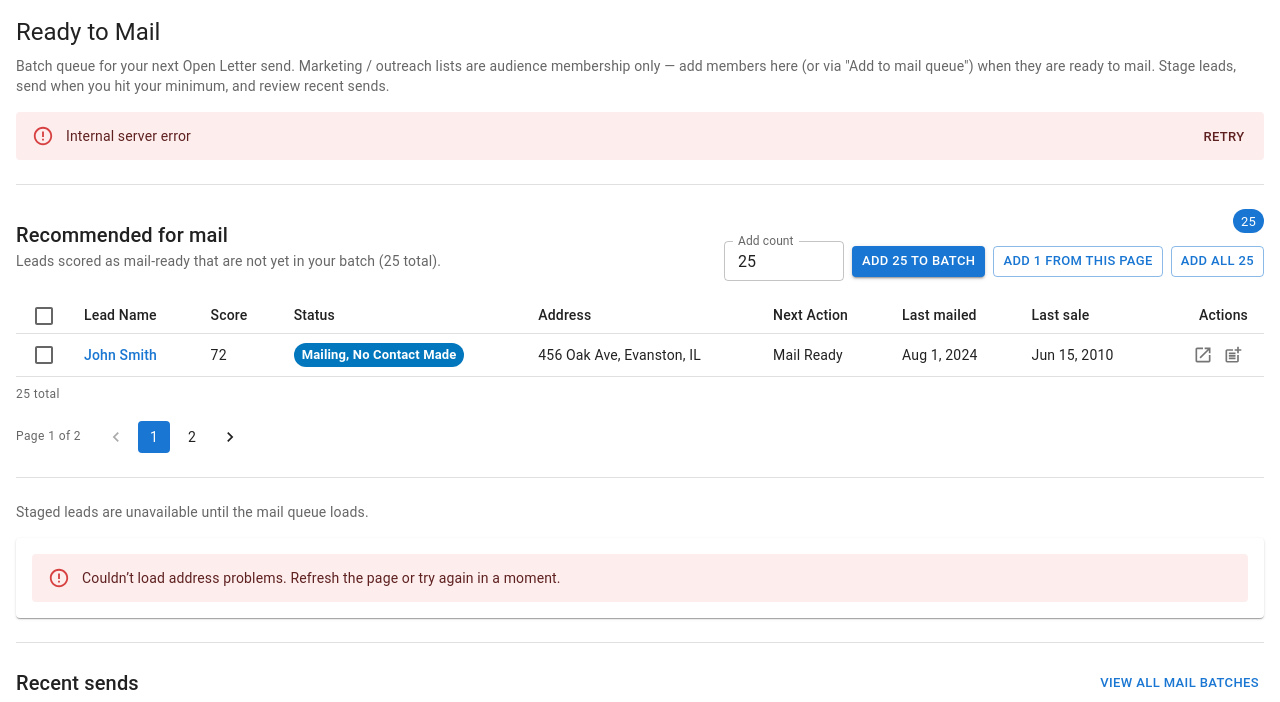
Scenario: ReadyToMailQueue › retry button refetches the mail queue
This screenshot has width=1280, height=702.
expect the message "Internal server error Retry" is shown: met, box left=16, top=112, right=1264, bottom=160
Step 1. Click the button "Retry" → (1224, 138), box left=1192, top=122, right=1256, bottom=153
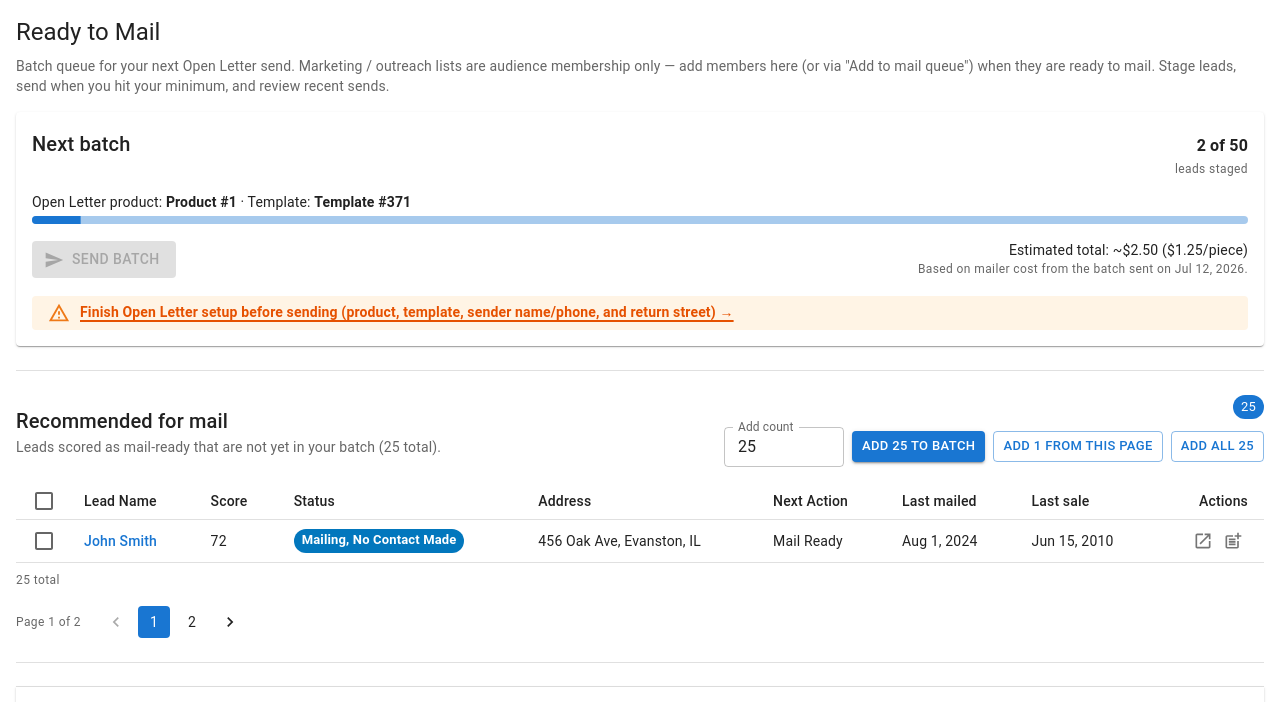
expect the element with test id "mail-batch-summary" is shown: met, box left=16, top=112, right=1264, bottom=346
